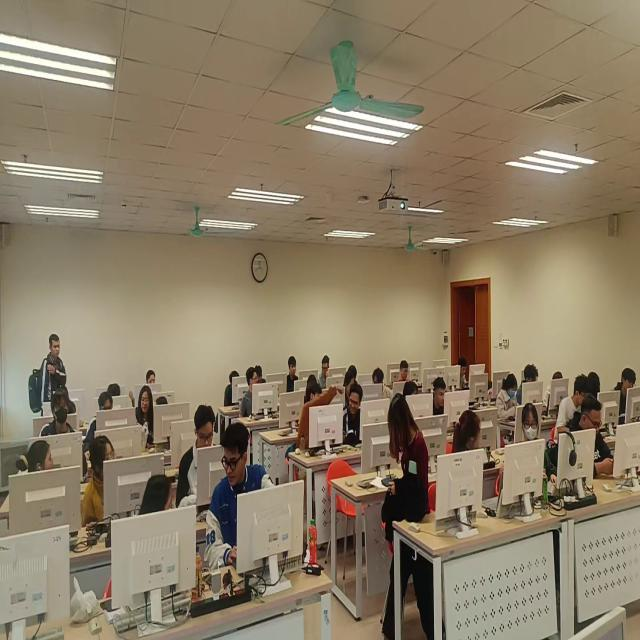raise_head: (136, 386, 154, 435), (286, 356, 300, 393)
stand: (382, 392, 446, 640), (29, 334, 68, 420)
using_computer: (176, 406, 217, 512), (554, 376, 592, 443), (39, 389, 78, 436), (611, 366, 640, 426), (87, 393, 114, 438), (496, 373, 520, 422), (225, 371, 242, 408), (432, 377, 447, 416), (318, 356, 331, 389), (457, 357, 469, 392), (402, 380, 420, 398), (256, 366, 268, 387), (398, 361, 410, 382), (109, 383, 122, 397), (348, 365, 359, 380), (307, 373, 317, 386), (148, 371, 157, 384)
using_phone: (563, 394, 617, 478)
